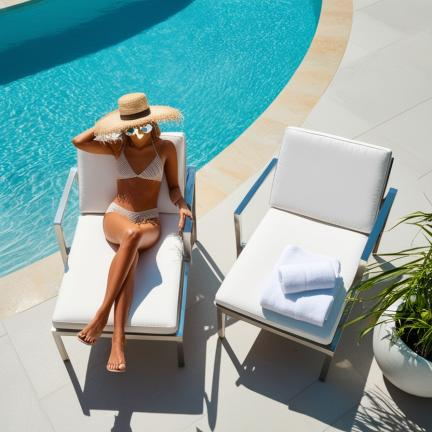guest on chair: (51, 93, 196, 372)
occupied chair: (215, 127, 397, 380)
